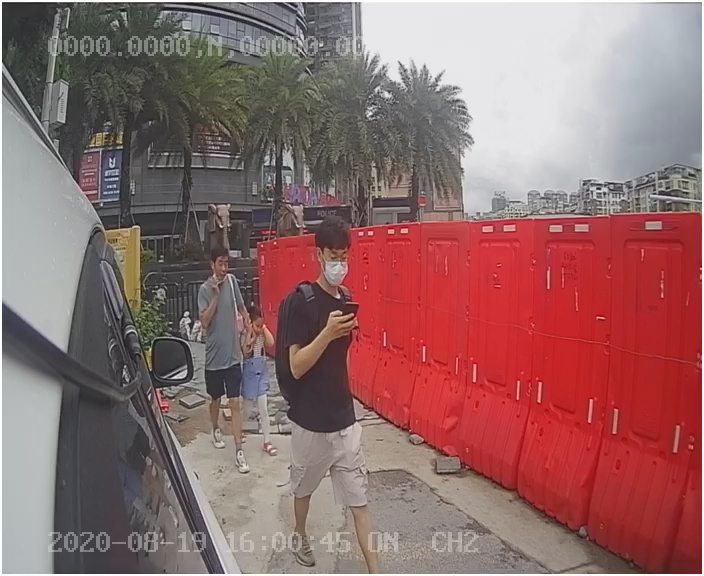person: (259, 220, 400, 531)
